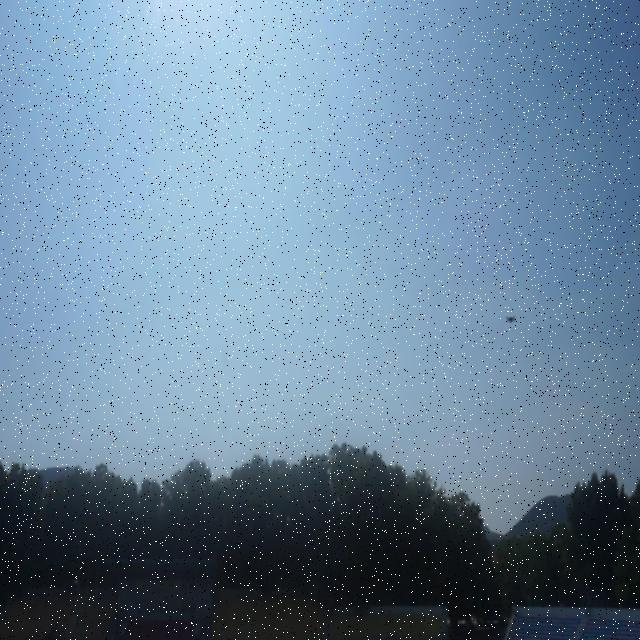UAV: (505, 315, 515, 323)
